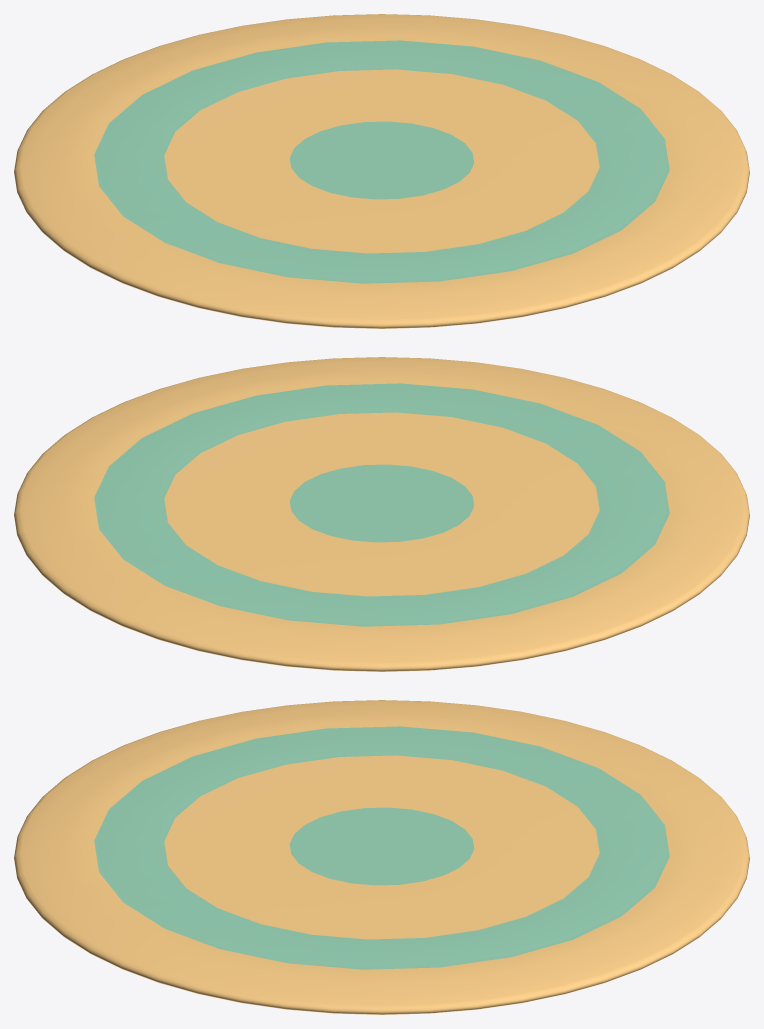
Rendered from Carpet_11.glb.
3 renders of one model, top to bottom at view 1: azimuth 30°, elevation 25°; view 2: azimuth 150°, elevation 25°; view 3: azimuth 270°, elevation 25°, orthographic.
Visible parts, largest first — view 1: Carpet_11; view 2: Carpet_11; view 3: Carpet_11.
Part boxes in pixels (<box>): Carpet_11: <box>14,14,749,328</box>; Carpet_11: <box>14,357,749,671</box>; Carpet_11: <box>14,700,749,1014</box>.
Bounding box in the file's own units: 1.99 × 0.0403 × 1.99.
Materials: 1 (1 with a texture image).
